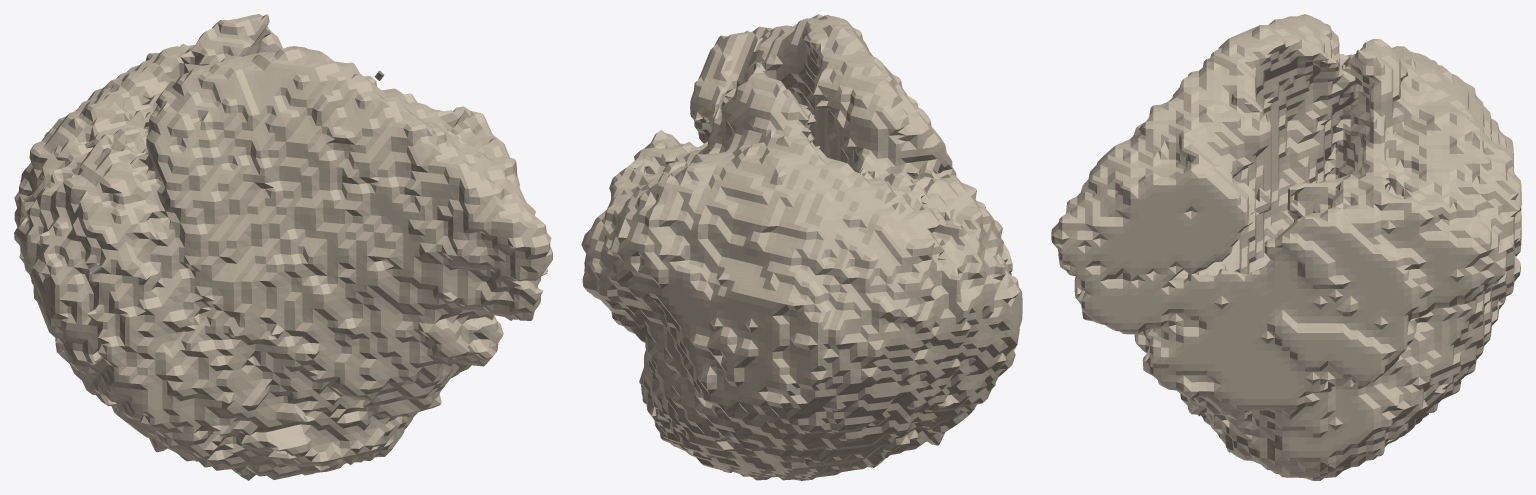
Rendered from l_cerebellum.glb.
3 views of the same model, side by side, from view 1: azimuth 30°, elevation 25°; view 2: azimuth 150°, elevation 25°; view 3: azimuth 270°, elevation 25° (orthographic). The views are drawn at different scales.
Visible parts, largest first — view 1: world; view 2: world; view 3: world.
Part boxes in pixels (left/top/right/bottom): world: left=14, top=14, right=552, bottom=480; world: left=581, top=14, right=1022, bottom=480; world: left=1051, top=14, right=1521, bottom=480.
Bounding box in the file's own units: 54.84 × 59.92 × 61.93.
